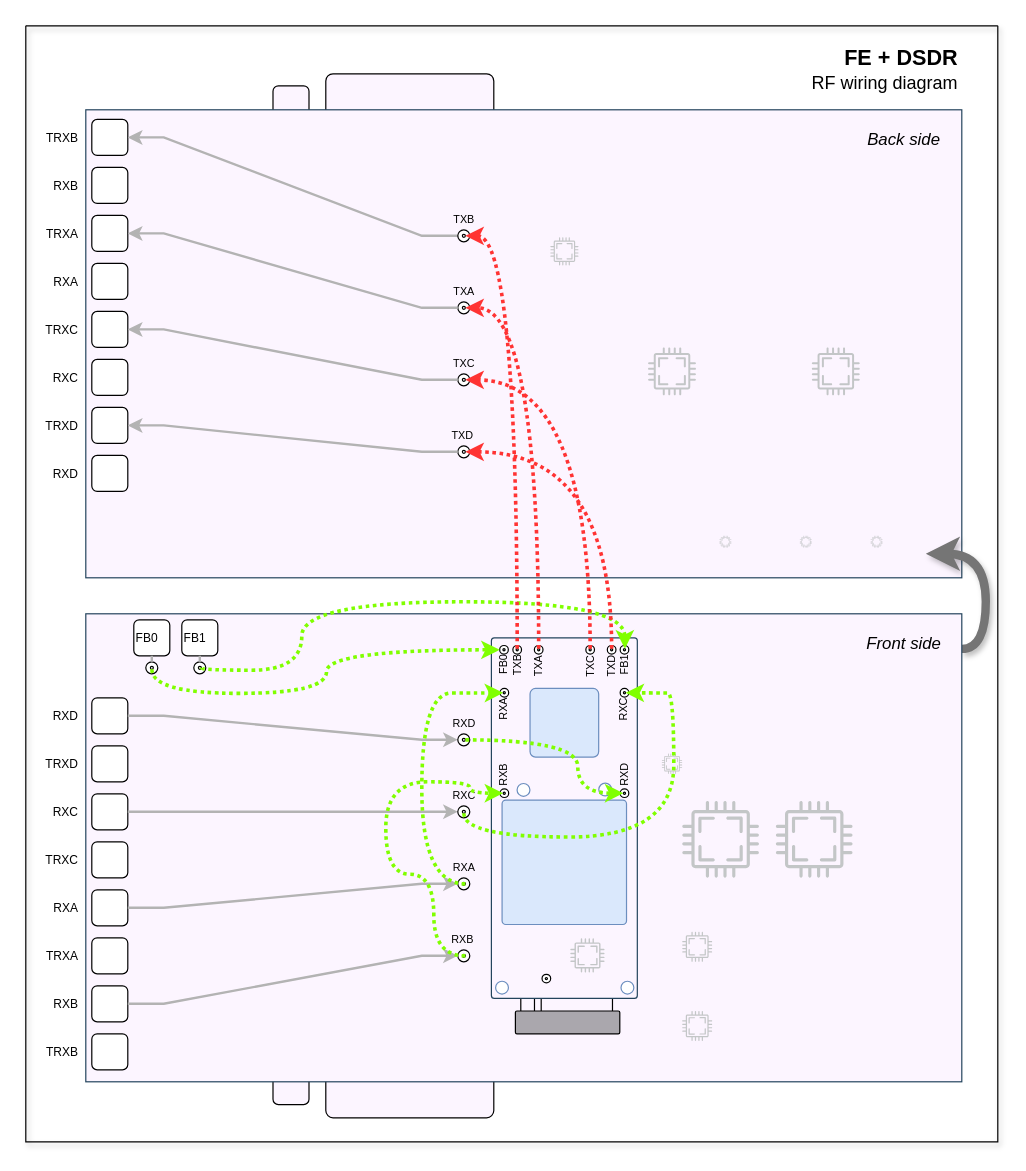
Image size: 1026x1171. Some labels were removed from this diagram. Here are the shapes that lost their labels. From the top down, the centre of each, then its label:
At point 564,722: "AFE".
At point 564,861: "FPGA".
